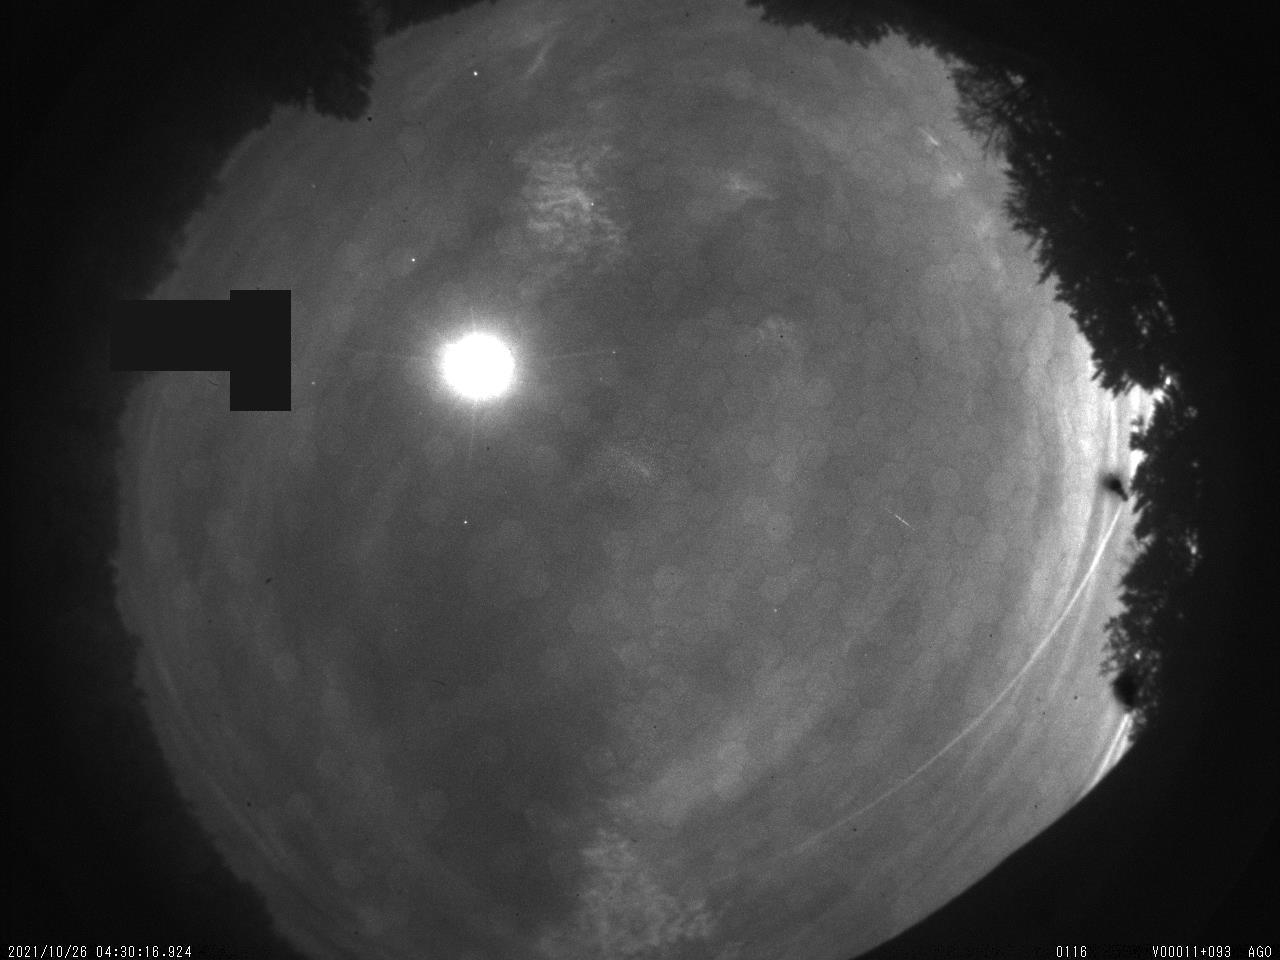meteor: (880, 507, 924, 539)
